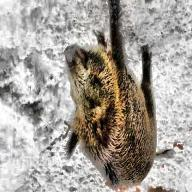boar: (54, 0, 179, 183)
